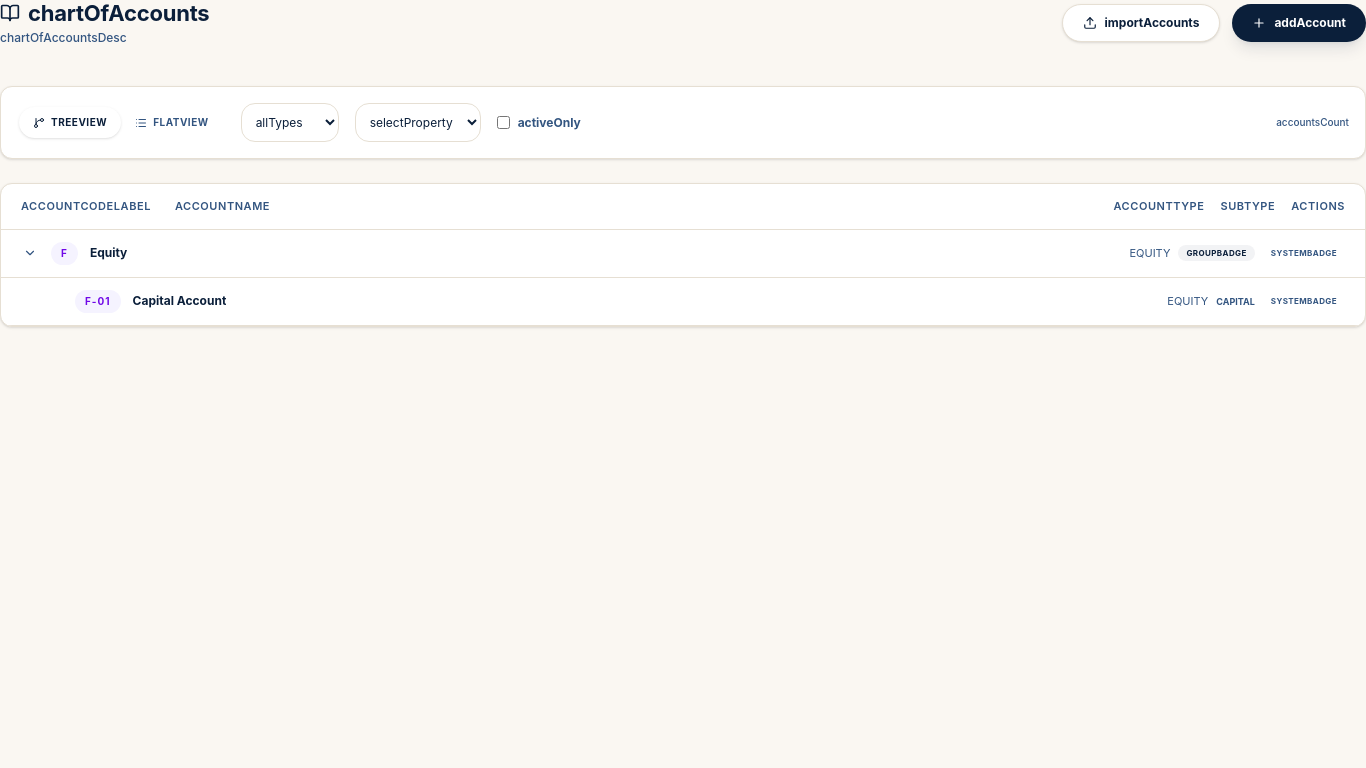
Test case: AccountsPage › leaves a collapsed group collapsed when the list is refetched
Expected: the text "Capital Account" is shown, [133,293,226,309]
# The chevron on the group row.
Click the 5th button.
click(30, 253)  # box [21,244,39,262]
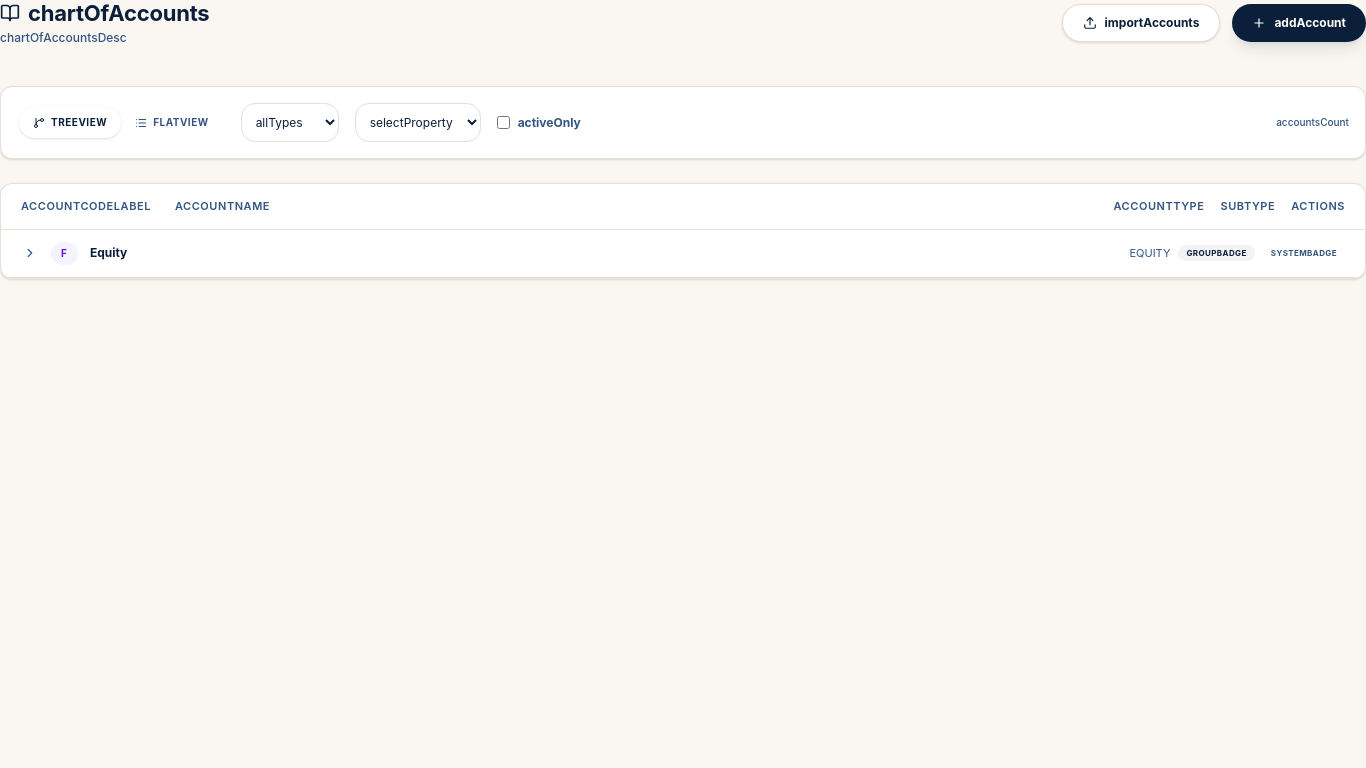
Result: the text "Capital Account" is gone
Click the button "addAccount".
click(1299, 23)  # box [1232,4,1365,42]
(page scrolled)
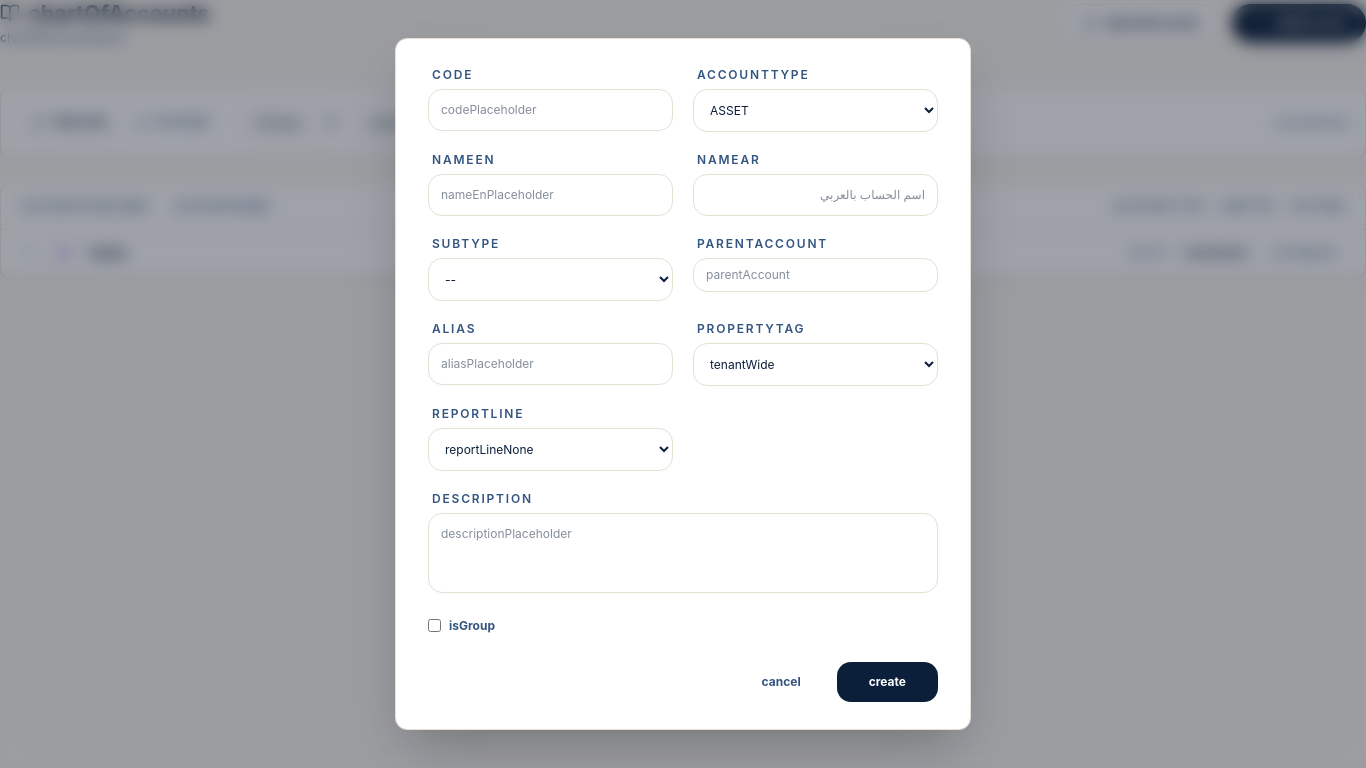
Submit the form, box [428,67,938,702]
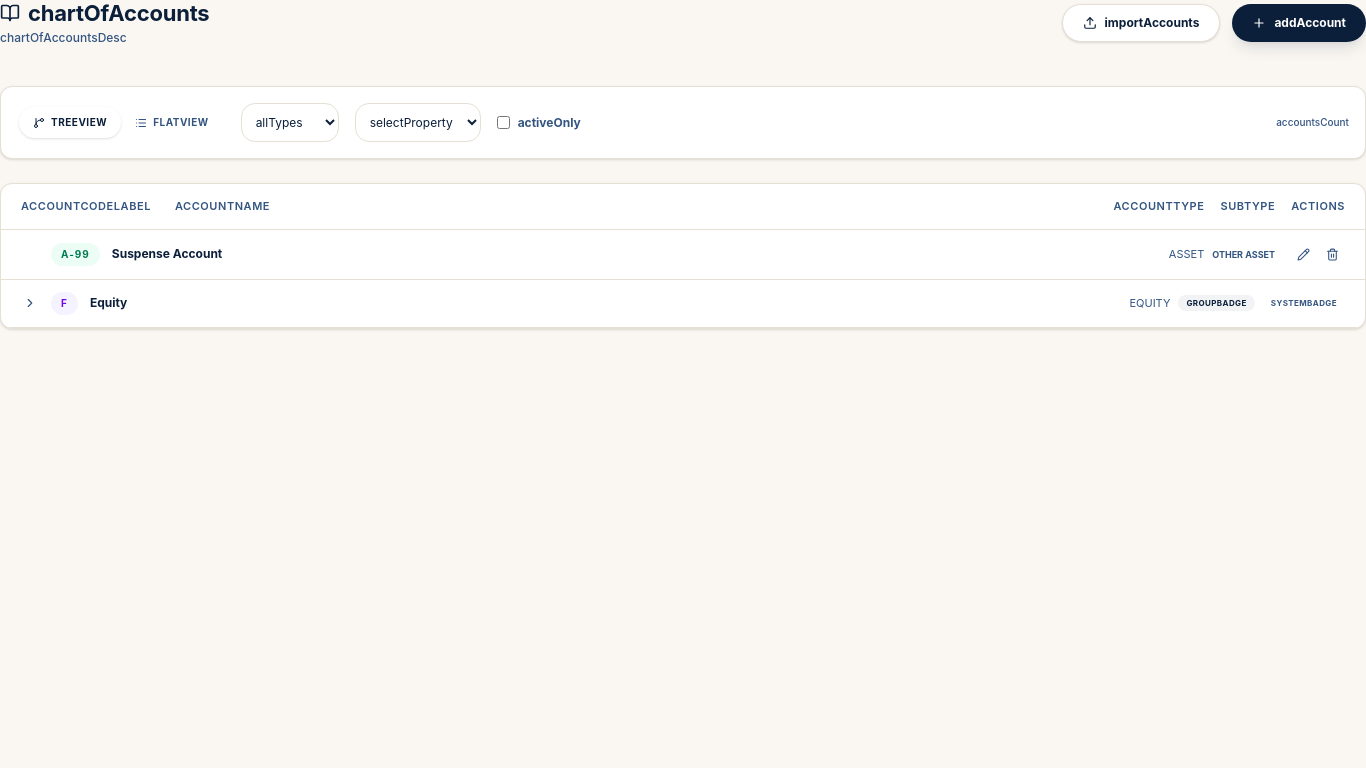
Expected: the text "Capital Account" is not shown
Result: the text "Suspense Account" is shown at [112,246,222,262]
